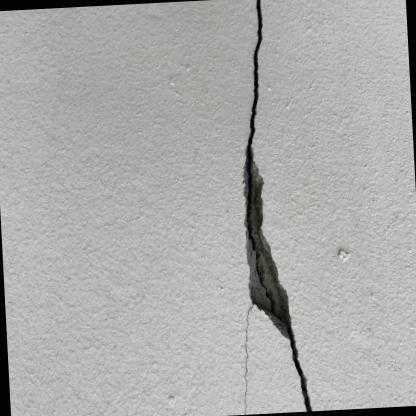crack: (243, 0, 313, 414)
